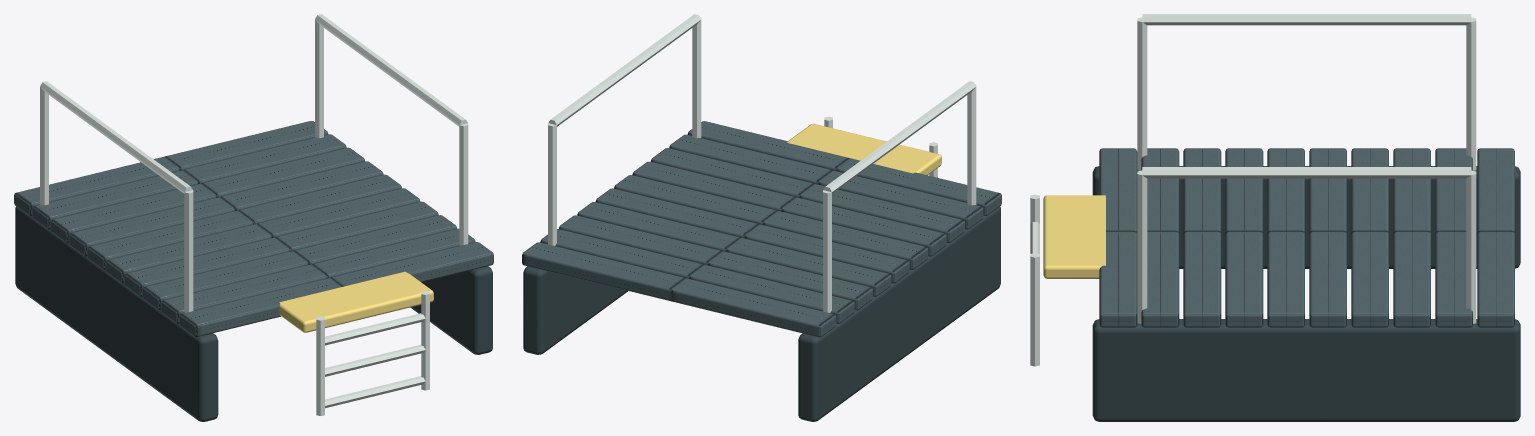
Rendered from dive-entry-platform.glb.
3 views of the same model, side by side, from view 1: azimuth 30°, elevation 25°; view 2: azimuth 150°, elevation 25°; view 3: azimuth 270°, elevation 25° (orthographic). The views are drawn at different scales.
Visible parts, largest first — view 1: dive-entry-platform; view 2: dive-entry-platform; view 3: dive-entry-platform.
Part boxes in pixels (<box>): dive-entry-platform: <box>14,14,493,421</box>; dive-entry-platform: <box>522,14,1001,421</box>; dive-entry-platform: <box>1030,14,1520,421</box>.
Size of the model in its own units: 2.4 by 1.68 by 2.98.
4 materials, 1 textured.
